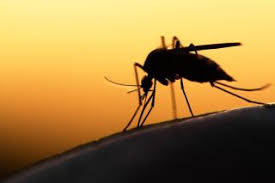mosquito: (97, 34, 275, 133)
